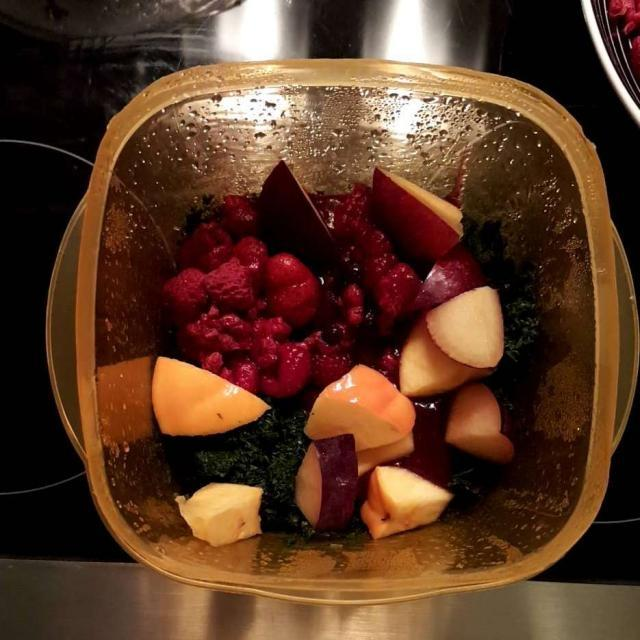kaki: (154, 354, 447, 543)
plums: (263, 154, 515, 534)
spinach: (169, 396, 492, 545)
